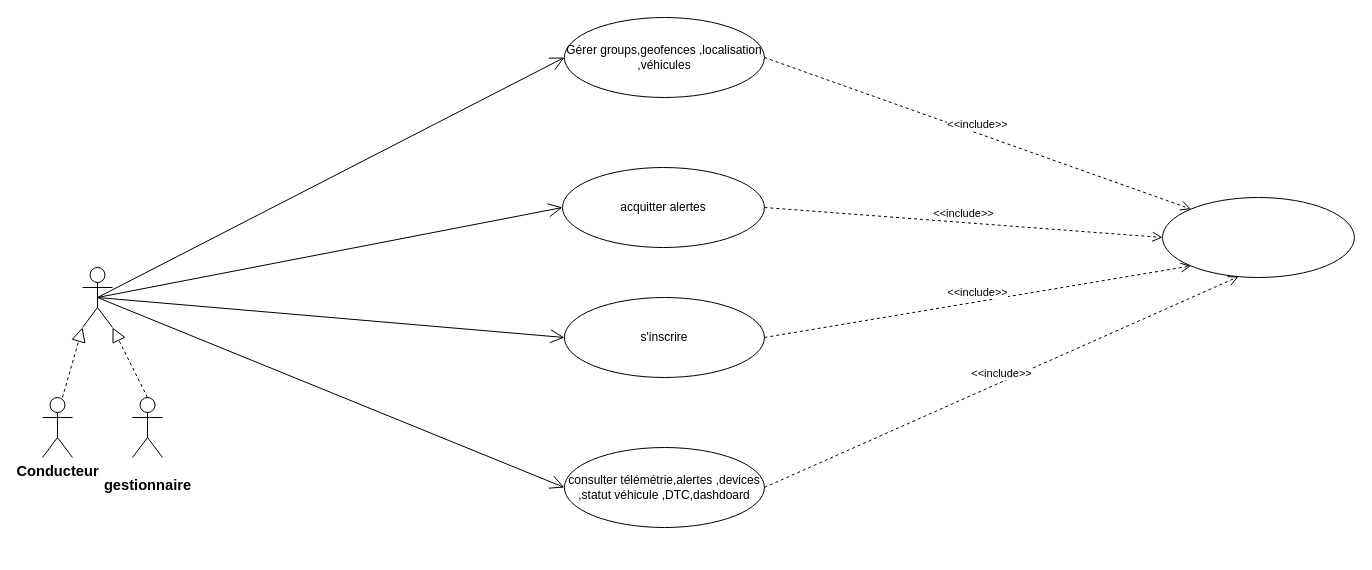
Image size: 1372x570. Some labels were removed from this diagram. The box of each missing label's shape, as (x1, y1, x2, y2) in pixels:
Admin: (82, 266, 112, 328)
S’authentifier: (1162, 196, 1354, 278)
